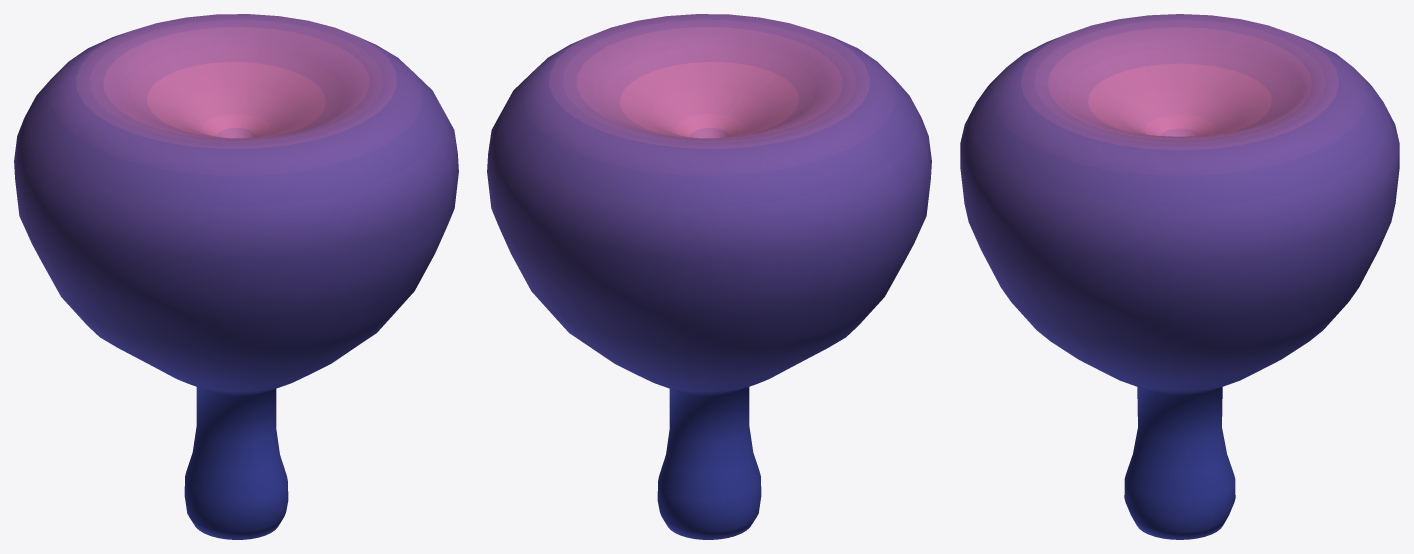
The model's file is HongoAlto.obj.
3 renders of one model, left to right at view 1: azimuth 30°, elevation 25°; view 2: azimuth 150°, elevation 25°; view 3: azimuth 270°, elevation 25°, orthographic.
Parts seen in each view (by area): view 1: Sphere; view 2: Sphere; view 3: Sphere.
Part boxes in pixels (x1,y1,x2,y2): Sphere: [14, 14, 458, 539]; Sphere: [487, 14, 931, 539]; Sphere: [960, 14, 1399, 539].
Bounding box in the file's own units: 0.9907 × 1.07 × 0.9721.
